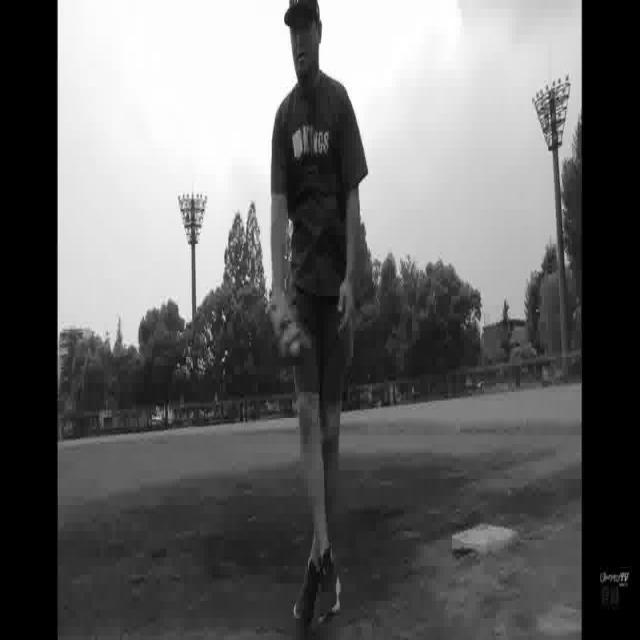base: (451, 526, 518, 565)
baseball_glove: (269, 294, 309, 366)
shoe: (317, 544, 344, 624), (290, 554, 318, 622)
